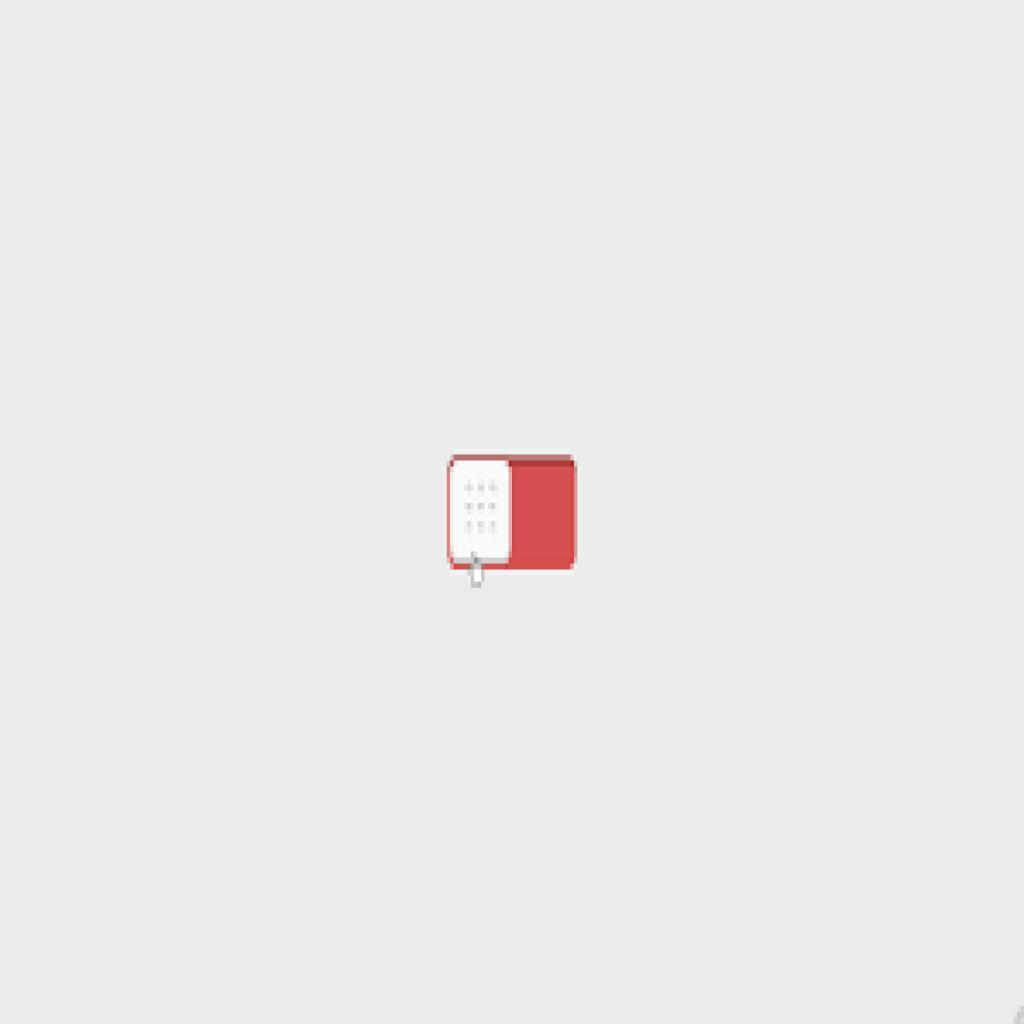switch: (451, 456, 578, 565)
